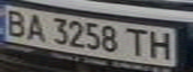2: (66, 18, 87, 50)
3: (45, 16, 72, 47)
5: (81, 20, 103, 52)
8: (100, 24, 121, 55)
A: (21, 11, 48, 43)
B: (0, 7, 30, 38)
H: (145, 28, 178, 61)
T: (124, 25, 151, 57)
